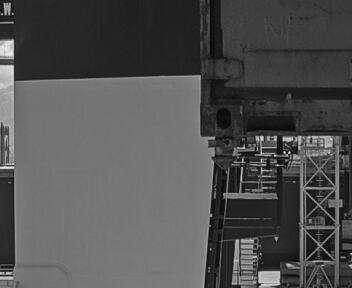twist_lock_2: (124, 167, 190, 207)
